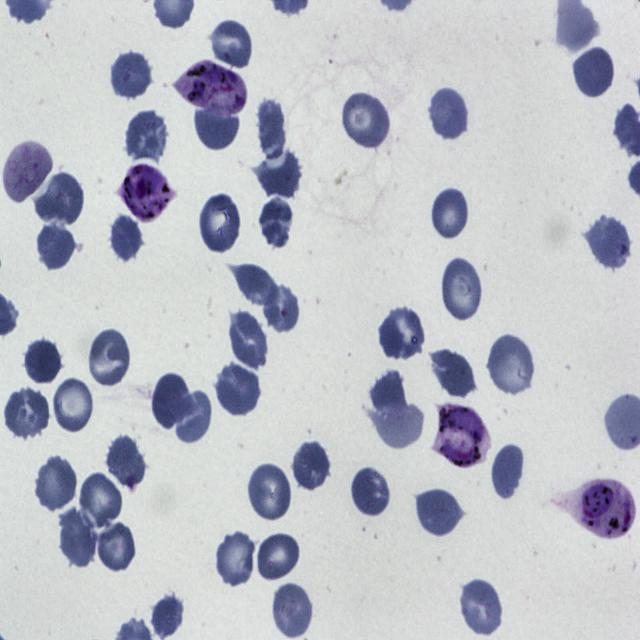difficult: (577, 478, 635, 542)
red blood cell: (487, 331, 536, 400), (340, 89, 392, 151), (441, 254, 484, 325), (34, 170, 86, 227), (77, 470, 124, 533), (458, 576, 505, 638), (247, 461, 293, 524), (584, 212, 632, 272), (57, 502, 99, 570), (376, 305, 426, 362), (198, 191, 242, 255), (89, 326, 132, 391), (227, 309, 270, 372), (414, 484, 464, 538), (34, 453, 79, 513), (215, 361, 263, 417), (150, 370, 193, 432), (3, 386, 51, 440), (256, 147, 304, 201), (214, 529, 257, 589), (271, 580, 314, 640), (124, 107, 170, 163), (368, 404, 426, 448), (430, 344, 478, 397), (489, 439, 528, 504), (52, 376, 94, 436), (255, 530, 302, 583), (210, 16, 254, 72), (572, 44, 616, 99), (104, 430, 144, 490), (428, 86, 470, 142), (260, 278, 302, 334), (109, 49, 153, 101), (34, 221, 78, 272), (430, 186, 470, 242), (229, 265, 281, 307), (350, 465, 391, 518), (96, 520, 136, 574), (174, 390, 213, 444), (193, 108, 239, 153), (292, 438, 331, 491), (22, 335, 62, 386), (257, 196, 294, 251), (256, 98, 286, 161), (109, 214, 144, 263), (150, 595, 184, 638)
ring: (1, 140, 54, 205)
trophozoite: (171, 60, 248, 115), (436, 402, 490, 472), (118, 163, 173, 225)
